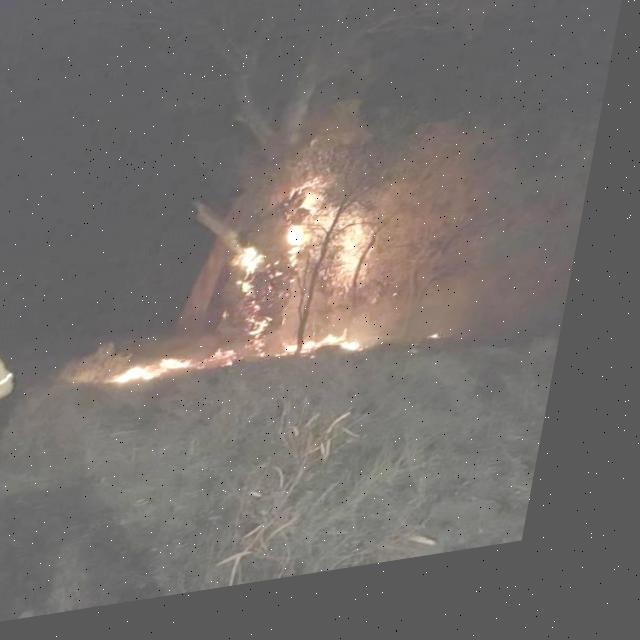Fire: (127, 164, 427, 400)
